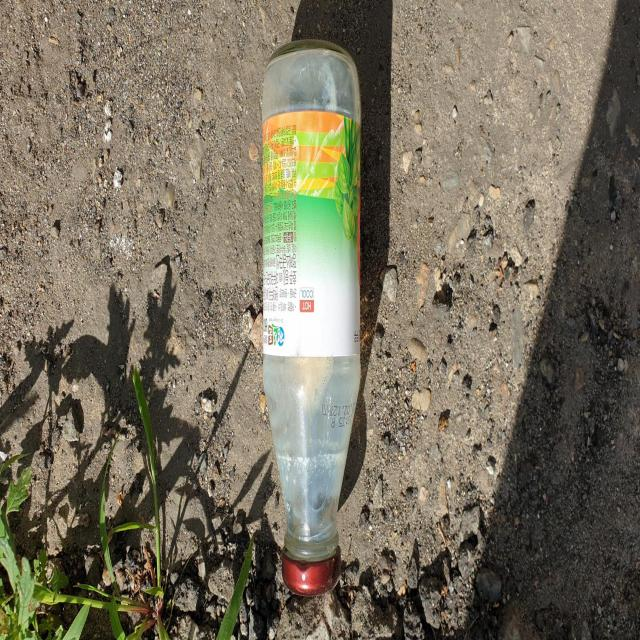glass: (263, 39, 361, 596)
